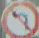Don't turn left: (0, 1, 37, 37)
